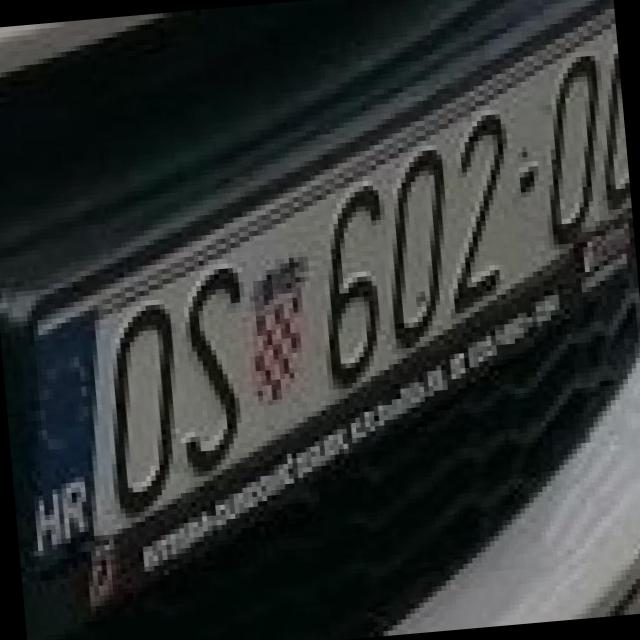0: (77, 283, 192, 520), (359, 128, 462, 350)
2: (427, 93, 526, 314)
6: (295, 164, 400, 391)
D: (512, 35, 620, 246)
S: (154, 246, 264, 474)
